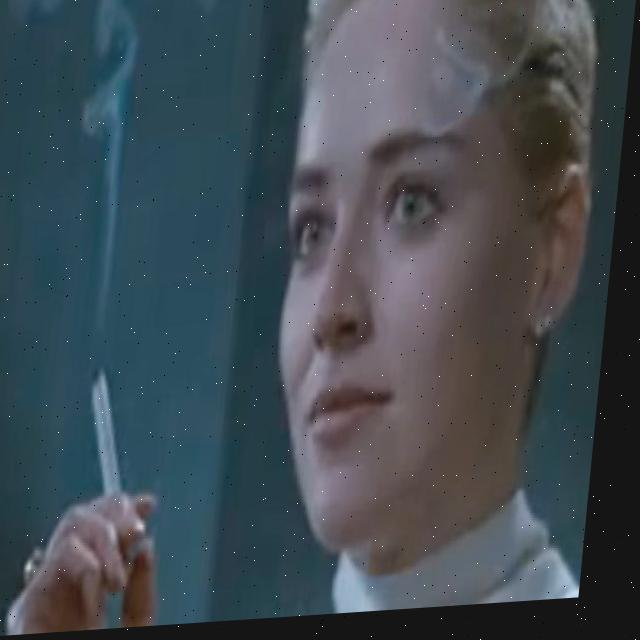cigarette: (86, 367, 143, 500)
